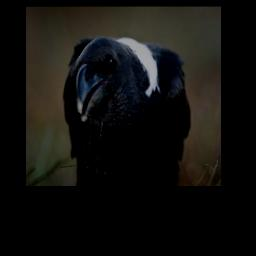Crow: (62, 34, 189, 181)
